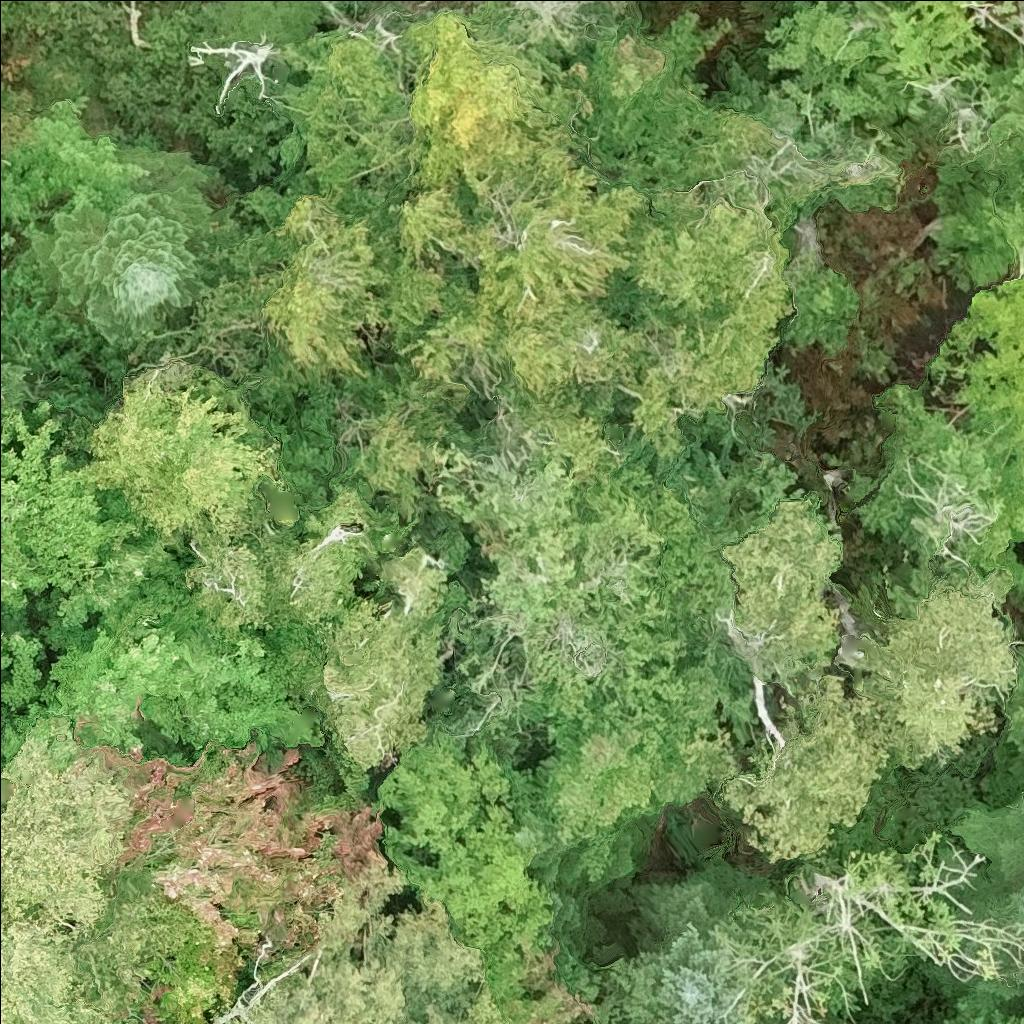crown: (276, 14, 662, 392), (430, 384, 691, 753), (76, 735, 392, 1023), (0, 717, 201, 1023), (222, 854, 511, 1023), (529, 667, 738, 884), (16, 135, 227, 348), (629, 190, 792, 465), (265, 539, 453, 772), (0, 398, 147, 676), (372, 738, 545, 962), (80, 368, 293, 544), (717, 672, 893, 864), (859, 565, 1020, 773), (567, 4, 734, 169), (715, 491, 845, 699), (626, 853, 749, 1023), (265, 484, 385, 629), (484, 937, 658, 1023), (177, 516, 281, 635), (948, 792, 1023, 927), (510, 789, 595, 900), (0, 345, 36, 420), (1004, 653, 1023, 758), (0, 62, 7, 103), (0, 8, 10, 36)
